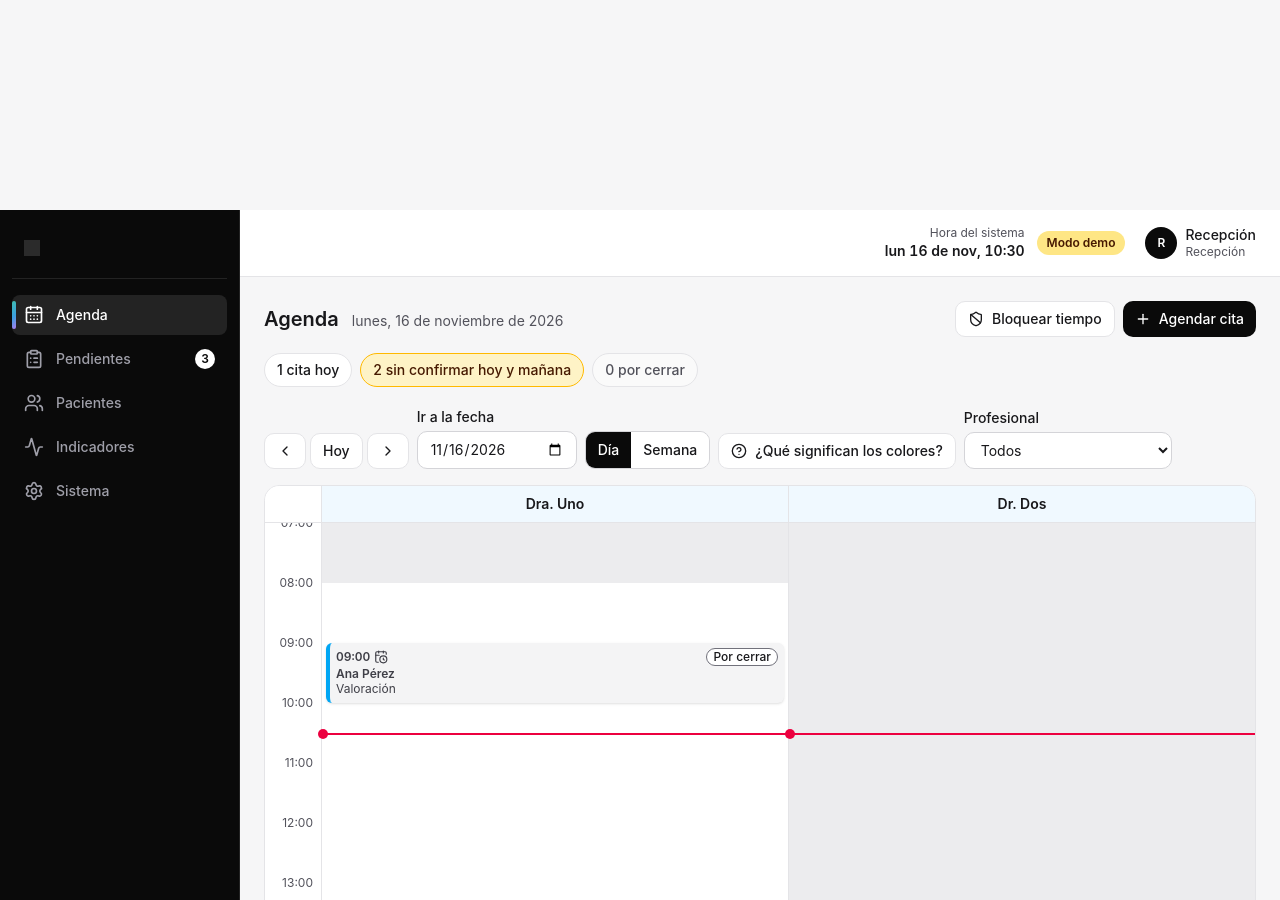
inicio de sesión › un 401 a mitad de uso lleva a iniciar sesión
(page scrolled)
Check: the heading "Agenda lunes, 16 de noviembre de 2026" is shown, box [264,304,563,332]
Click the button named "Día siguiente". click: (388, 450)
box: [367,432,409,468]
(page scrolled)
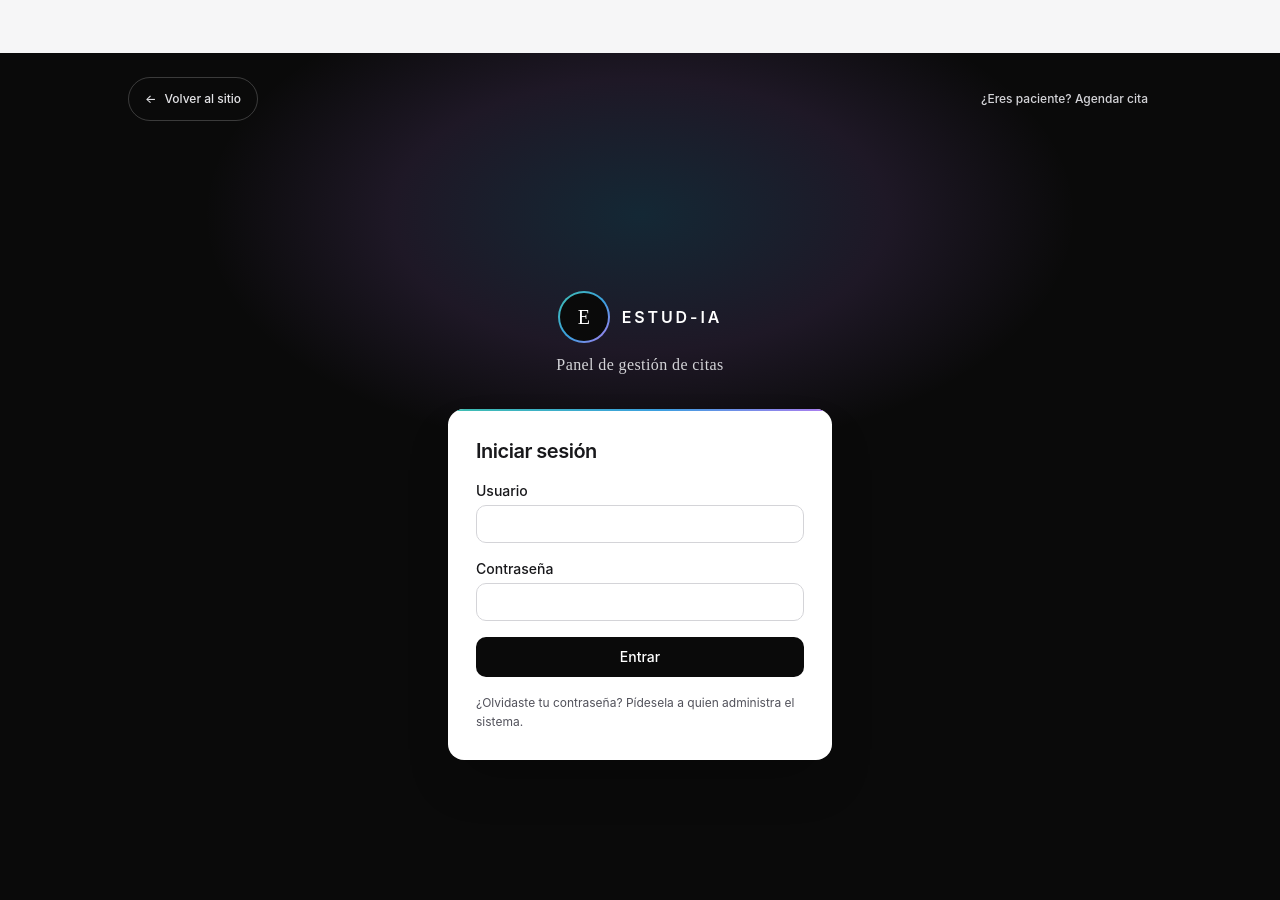
Check: the heading "Iniciar sesión" is shown, box [476,438,597,462]
